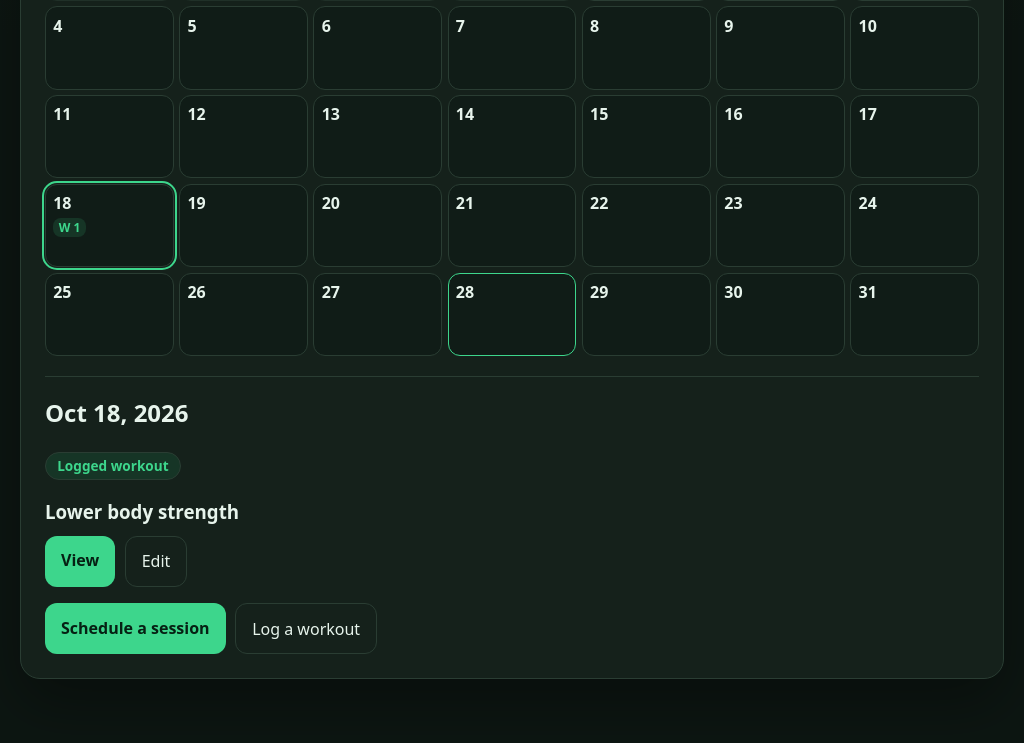
Test case: S3 calendar, scheduling, and progress pages › opens workout details from the selected day
The width and height of the screenshot is (1024, 743).
(page scrolled)
Expected: the heading "Lower body strength" is shown, top-left (45, 499), bottom-right (239, 524)
What coordinates should you click on to do the following:
click the link "View"
I would click on:
 (80, 561)
Its box is top-left (45, 536), bottom-right (115, 587).
(page scrolled)
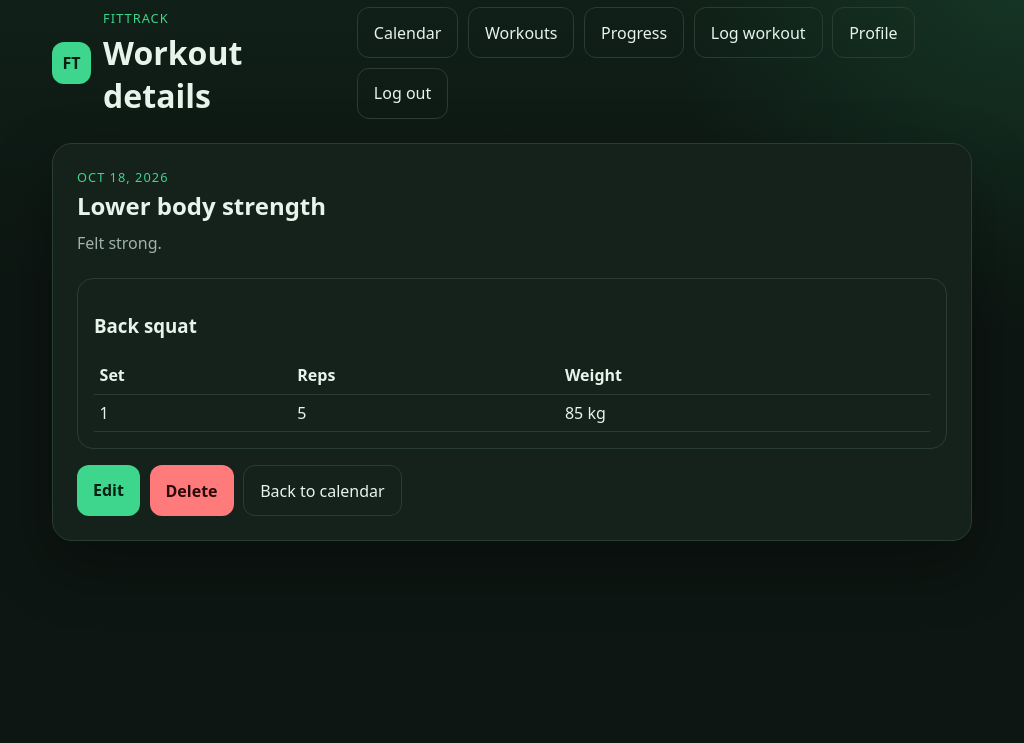
Expected: the heading "Lower body strength" is shown, top-left (77, 189), bottom-right (326, 222)
Result: the text "85 kg" is shown at top-left (559, 394), bottom-right (930, 432)
